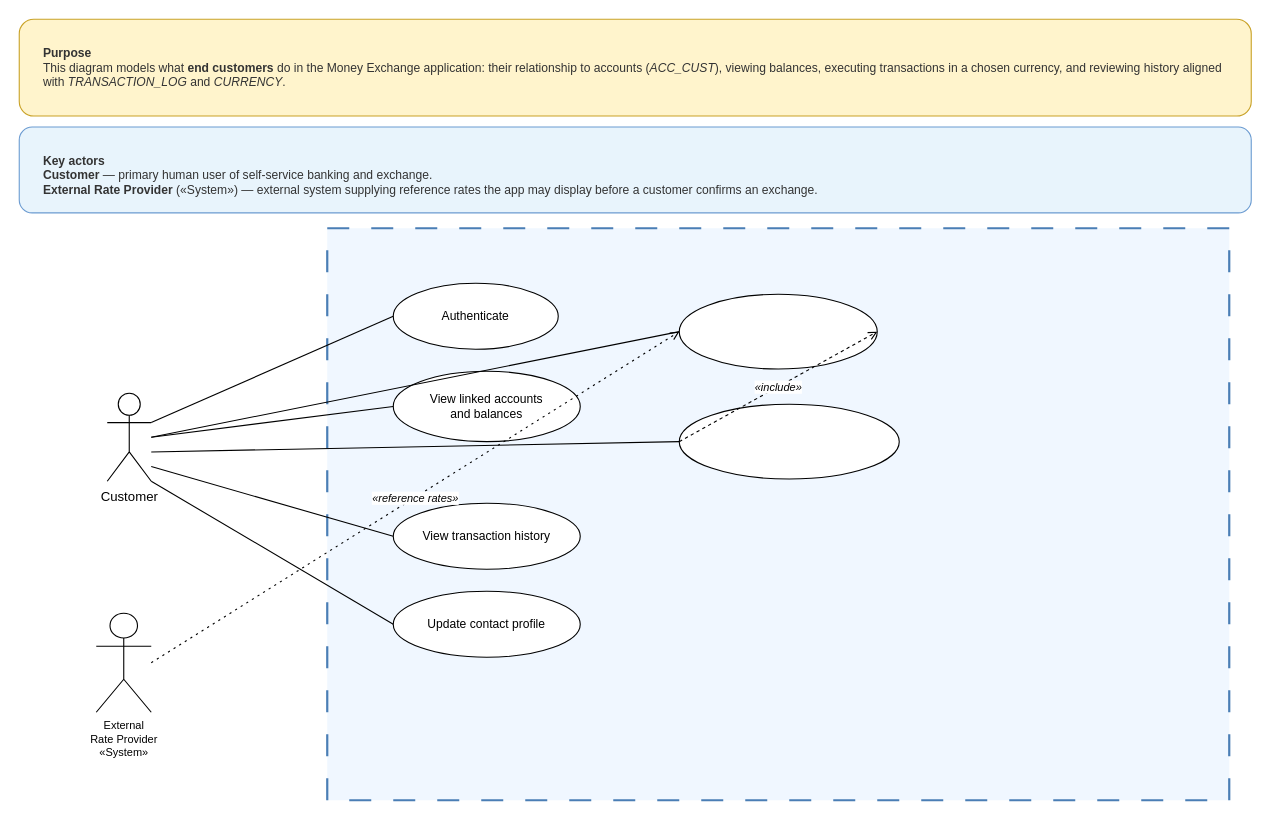
Some shapes in this 1271 by 821 pixel diagram are drawn without their labels. The shapes that lost their labels are listed below. From the top down, each one's box as (x1, y1, x2, y2) in pixels, then its label:
(678, 293, 877, 369): Get exchange quote (source/target currency)
(678, 403, 899, 479): Execute currency exchange (record transaction)
(326, 227, 1230, 801): Money Exchange System (Customer boundary)
